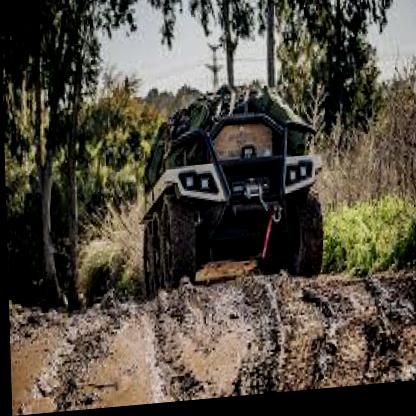UGV: (134, 82, 322, 294)
